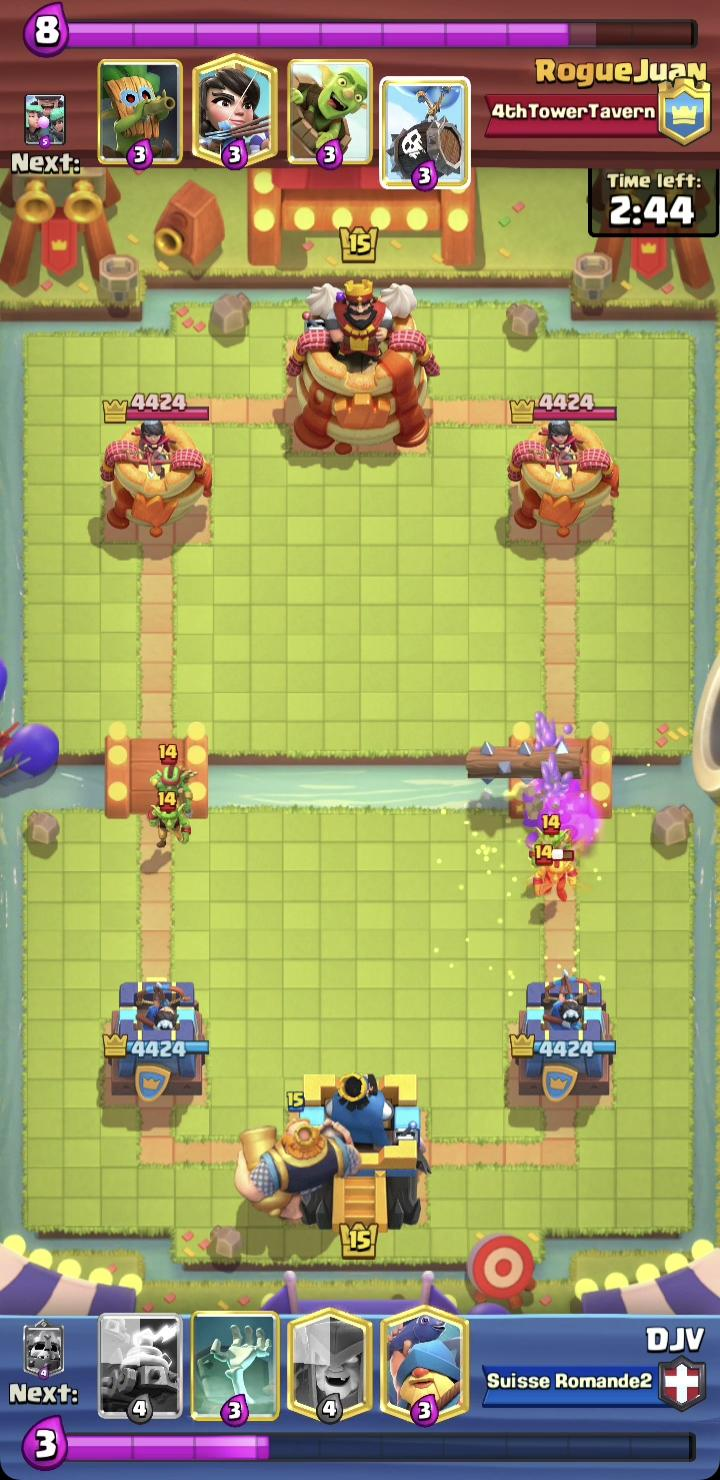ally_goblindrill: (23, 97, 64, 159)
ally_log: (464, 740, 589, 786)
ally_royale_giant: (232, 1090, 356, 1221)
enemy_goblin: (528, 844, 580, 902), (147, 789, 193, 851), (530, 813, 579, 866)
enemy_spear_goblin: (148, 742, 198, 808)
